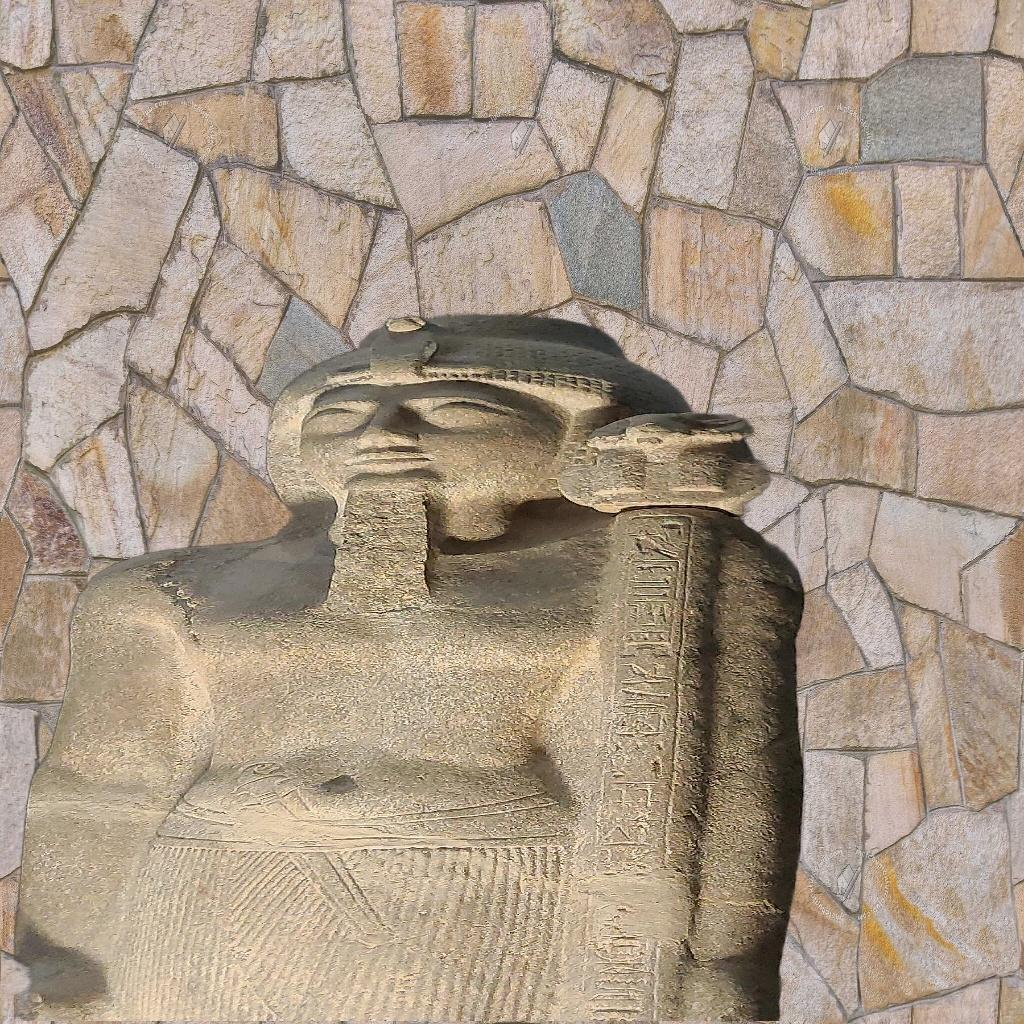Statue of Ramesses III as standard Bearer: (14, 310, 814, 1021)
